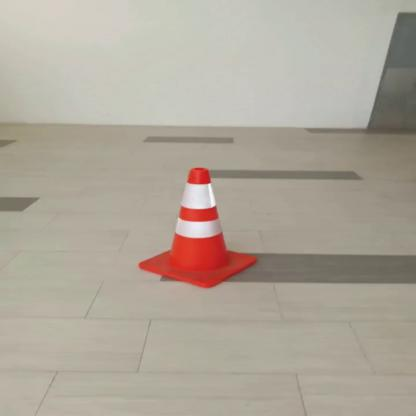cone: (124, 164, 254, 290)
